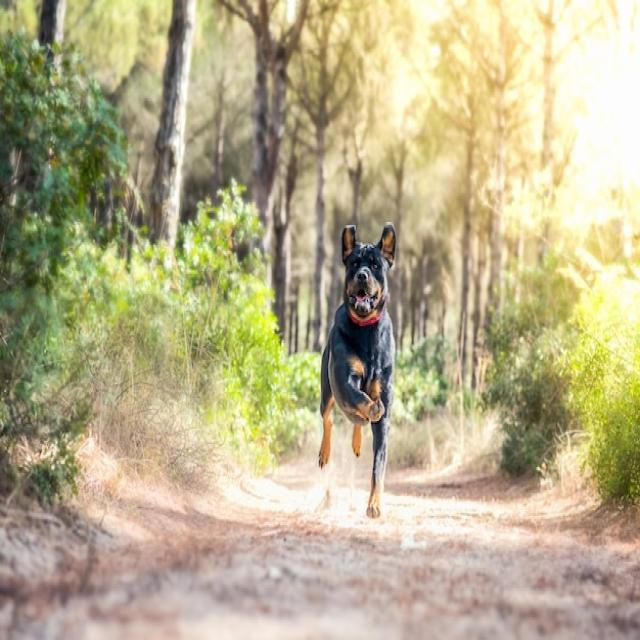Dog: (318, 221, 397, 522)
